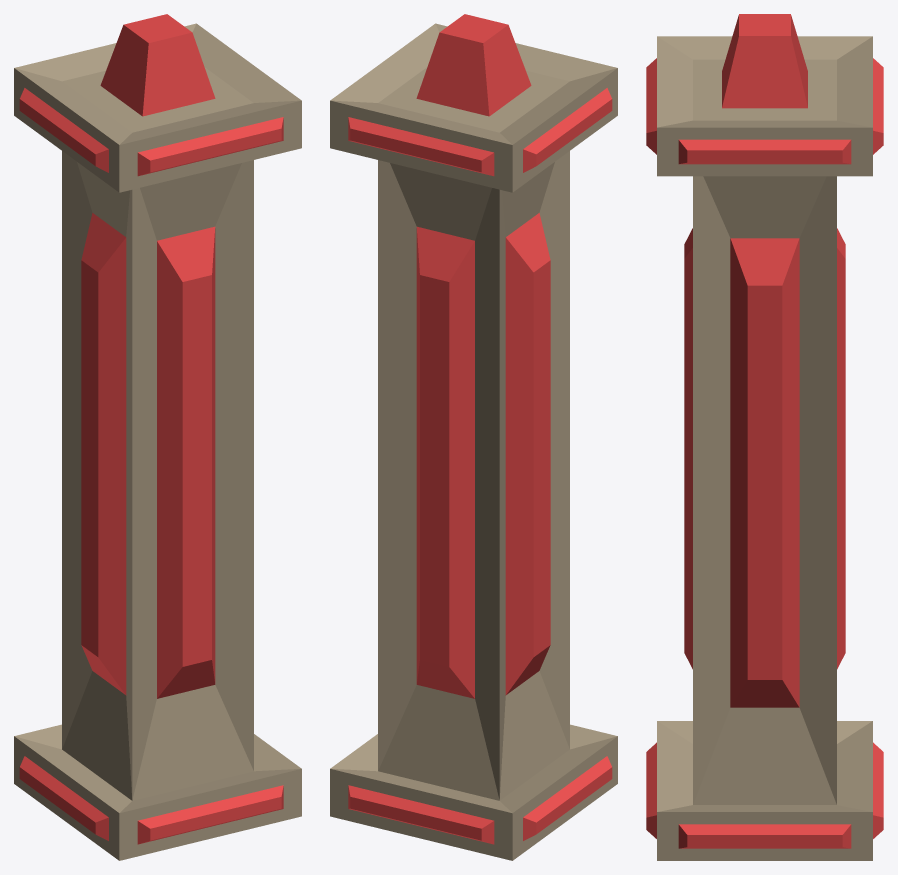
File: pillar.fbx
3 views of the same model, side by side, from view 1: azimuth 30°, elevation 25°; view 2: azimuth 150°, elevation 25°; view 3: azimuth 270°, elevation 25° (orthographic). The views are drawn at different scales.
Parts seen in each view (by area): view 1: Cube.002; view 2: Cube.002; view 3: Cube.002.
Part boxes in pixels (x1=…): Cube.002: x1=14, y1=14, x2=301, y2=860; Cube.002: x1=330, y1=14, x2=617, y2=860; Cube.002: x1=646, y1=14, x2=883, y2=860.
Bounding box in the file's own units: 330 × 1213 × 330.
